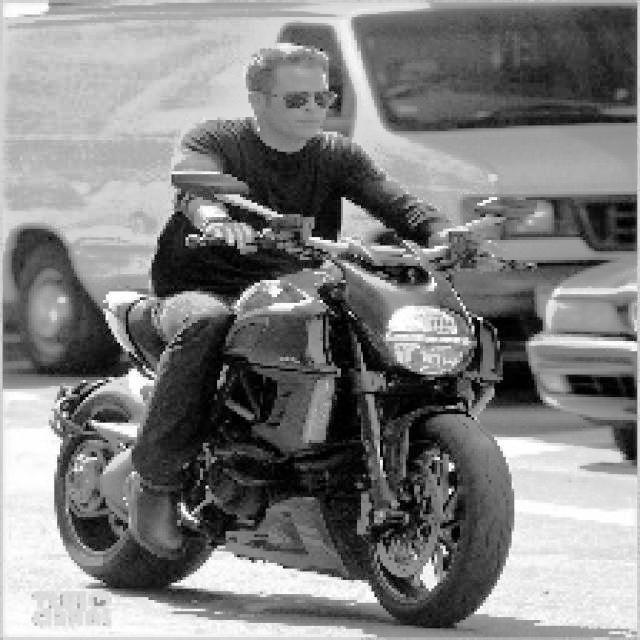Bike: (83, 241, 515, 625)
